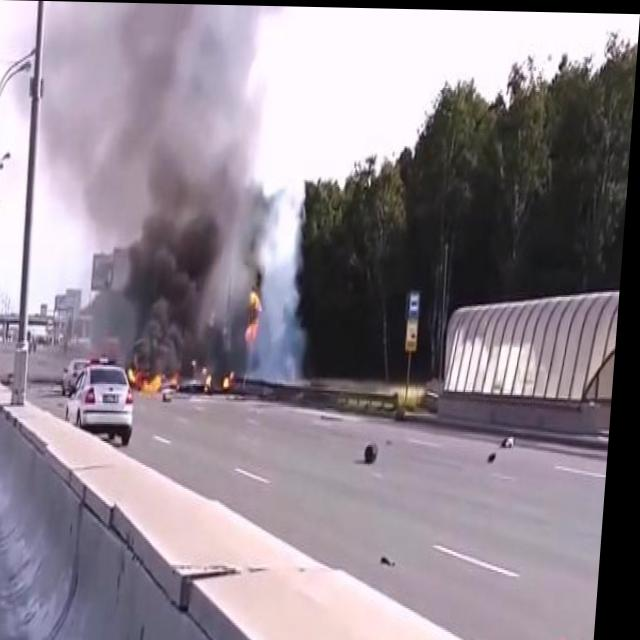fire: (133, 363, 191, 398), (249, 285, 269, 344), (195, 356, 223, 395), (226, 364, 246, 390)
